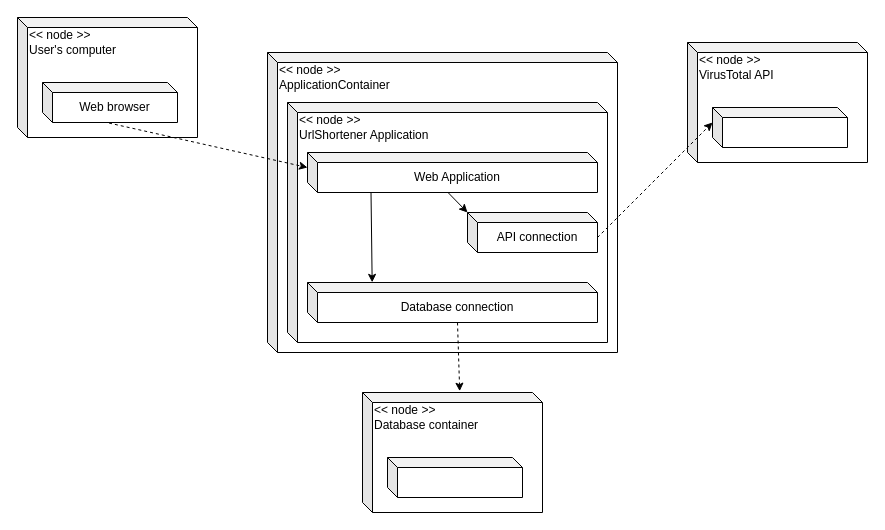
This 885x530 diagram has some shape labels left out. The box of each missing label's shape, as (x1, y1, x2, y2) in pixels:
API Service: (712, 106, 848, 148)
sqs data: (386, 456, 522, 498)
